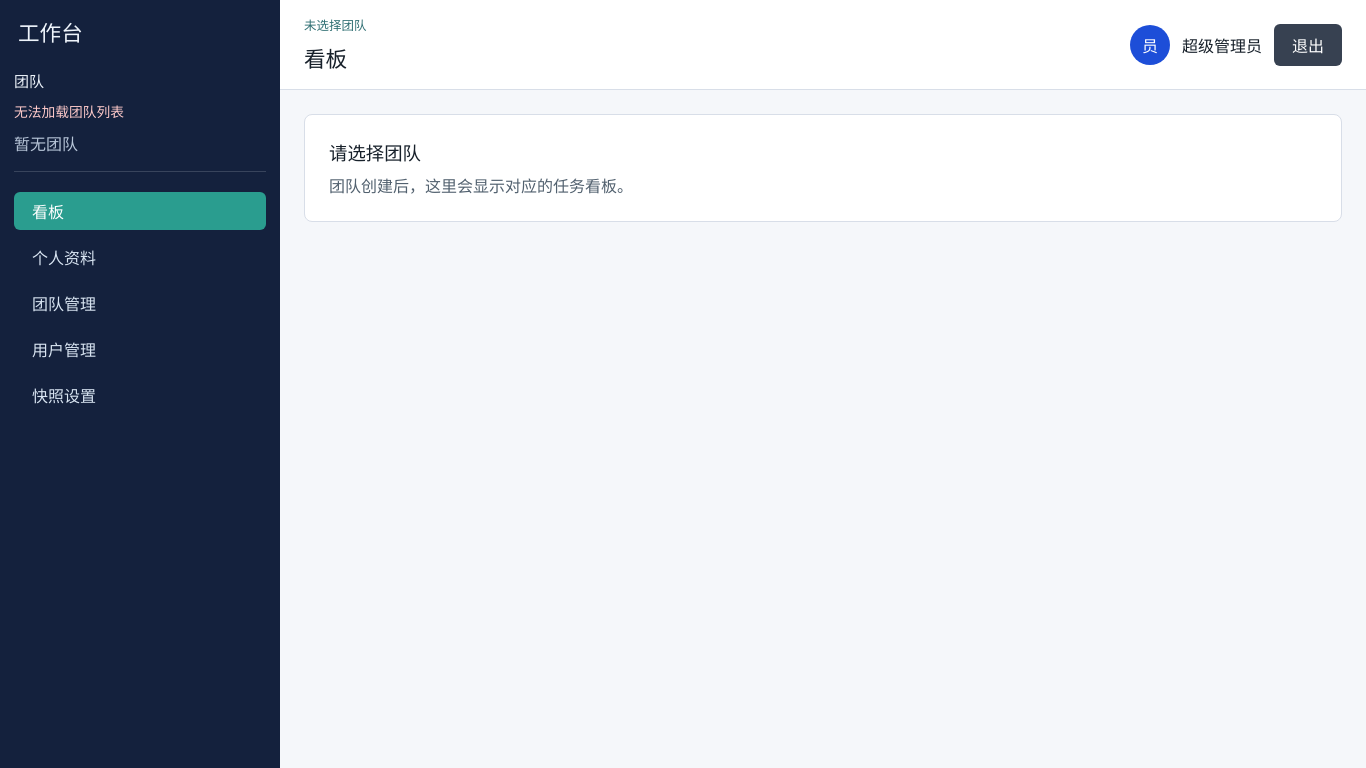
Test case: auth flow › clears the local user when logout returns unauthorized
This screenshot has width=1366, height=768.
Check: the text "超级管理员" is shown, box [1182,32,1262,56]
Click the button "退出" at (1308, 44), box [1274,24,1342,66]
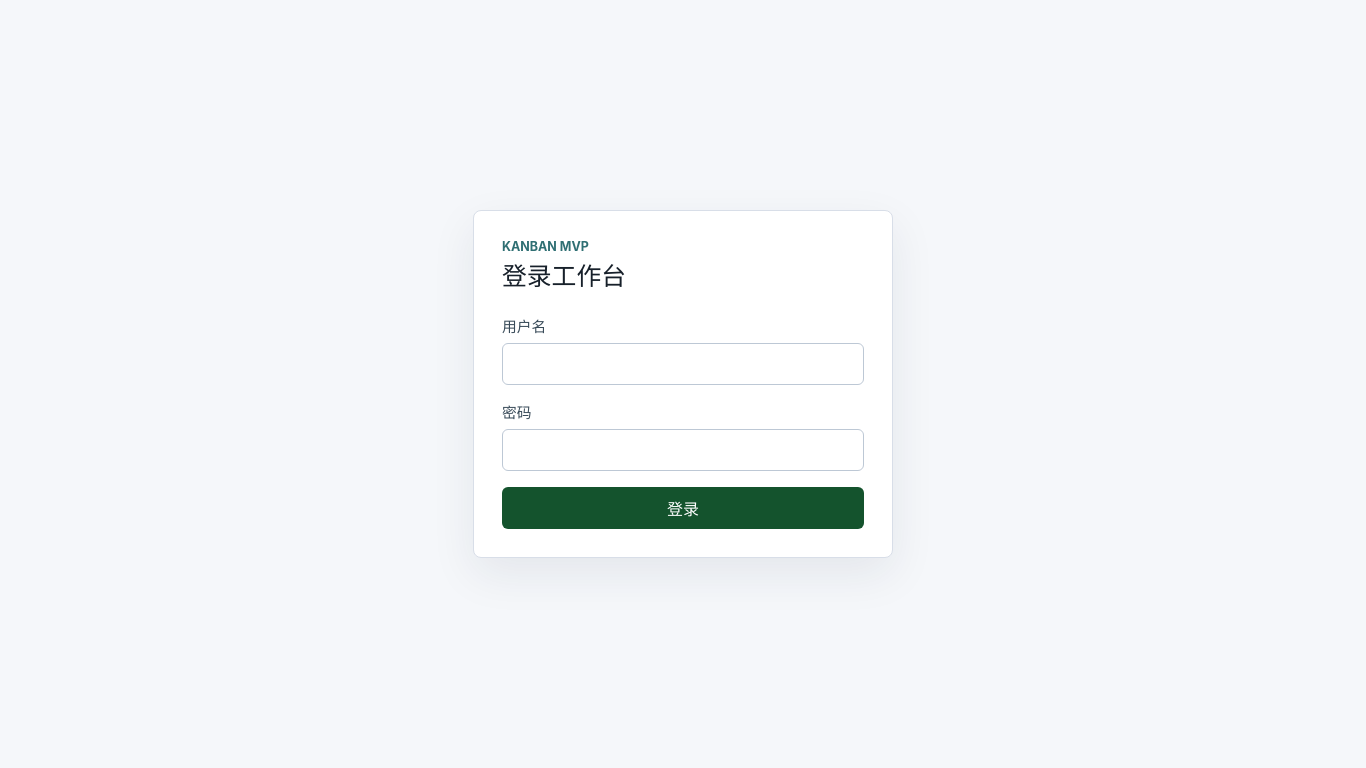
Check: the field labelled "用户名" is shown, box [502,343,864,385]
Check: the text "超级管理员" is gone
